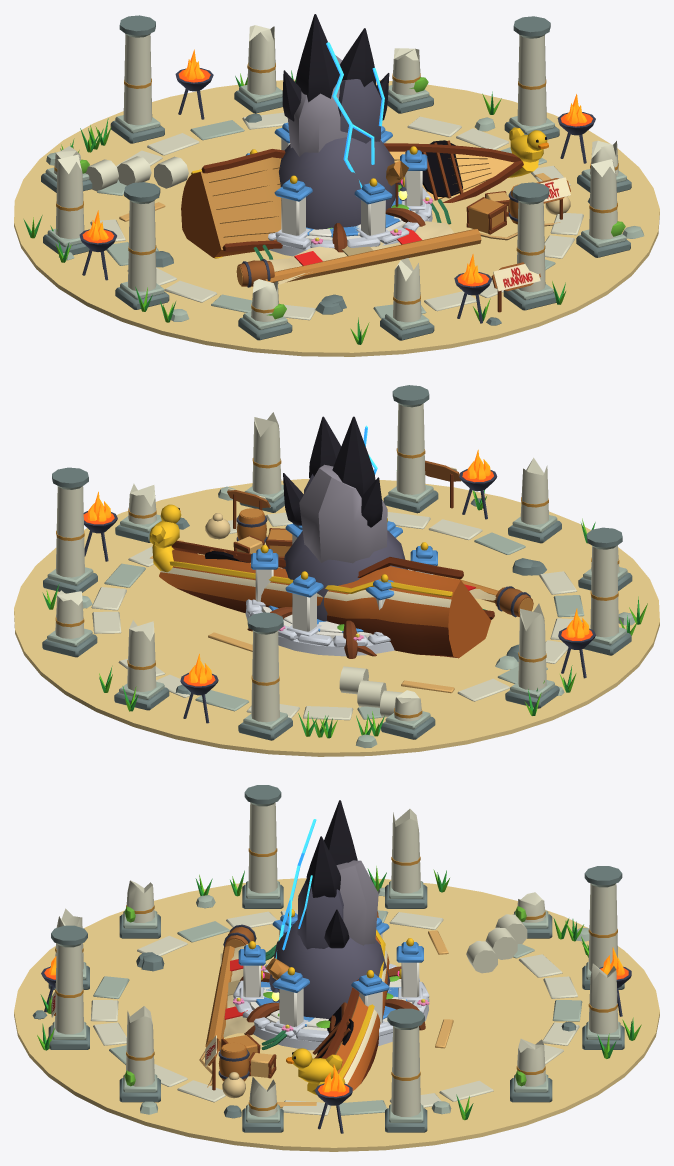
File: special.glb
The picture shows the model from 3 angles, top to bottom: view 1: azimuth 30°, elevation 25°; view 2: azimuth 150°, elevation 25°; view 3: azimuth 270°, elevation 25°; orthographic projection.
Visible parts, largest first — view 1: BossArena, Shipwreck, StormWallMarker, HeartShrine; view 2: BossArena, Shipwreck, StormWallMarker, HeartShrine; view 3: BossArena, StormWallMarker, Shipwreck, HeartShrine.
Part boxes in pixels (box(x1,y1,x2,y2)): BossArena: box(14, 15, 659, 356); Shipwreck: box(119, 127, 570, 287); StormWallMarker: box(279, 14, 395, 229); HeartShrine: box(245, 122, 432, 256); BossArena: box(14, 385, 659, 756); Shipwreck: box(149, 488, 533, 693); StormWallMarker: box(282, 416, 407, 621); HeartShrine: box(245, 518, 437, 658); BossArena: box(14, 785, 659, 1151); StormWallMarker: box(269, 800, 390, 1018); Shipwreck: box(199, 911, 453, 1107); HeartShrine: box(233, 909, 429, 1050).
Bounding box in the file's own units: 20.15 × 8.28 × 20.34.
Materials: 9 (2 with a texture image).
